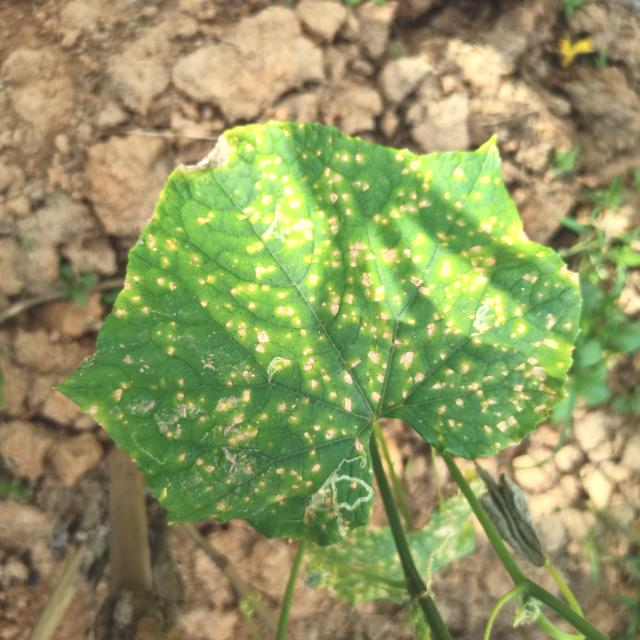disease_cucumber: (101, 144, 558, 500)
